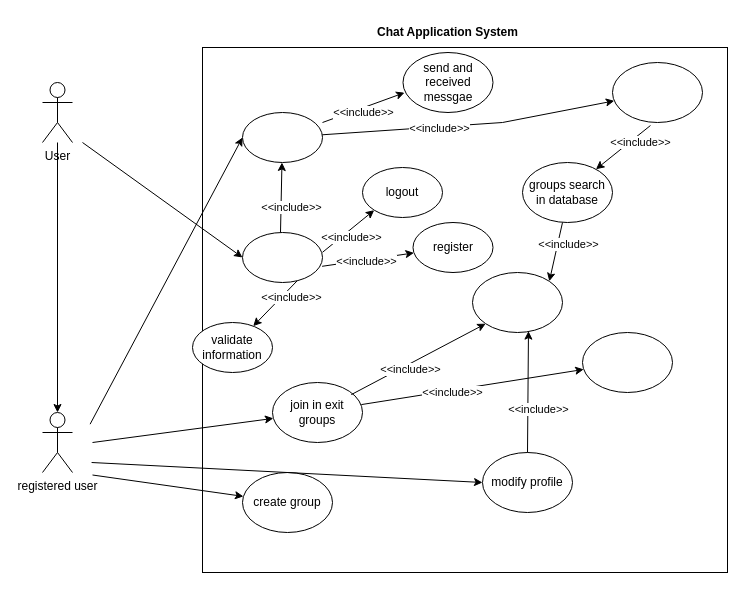
The diagram is 745 pixels wide and 590 high, and some of its shapes have lost their labels. The centre of each missing label's shape, as x and y in pixels:
chat: point 282,137
Connect with other user: point 657,92
firebase: point 517,302
leave out group: point 627,362
Login: point 282,257
